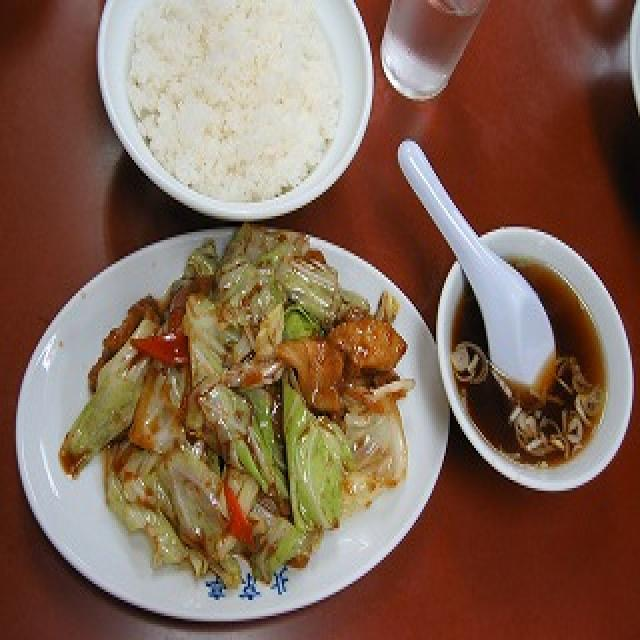蔬菜料理: (28, 192, 424, 597)
